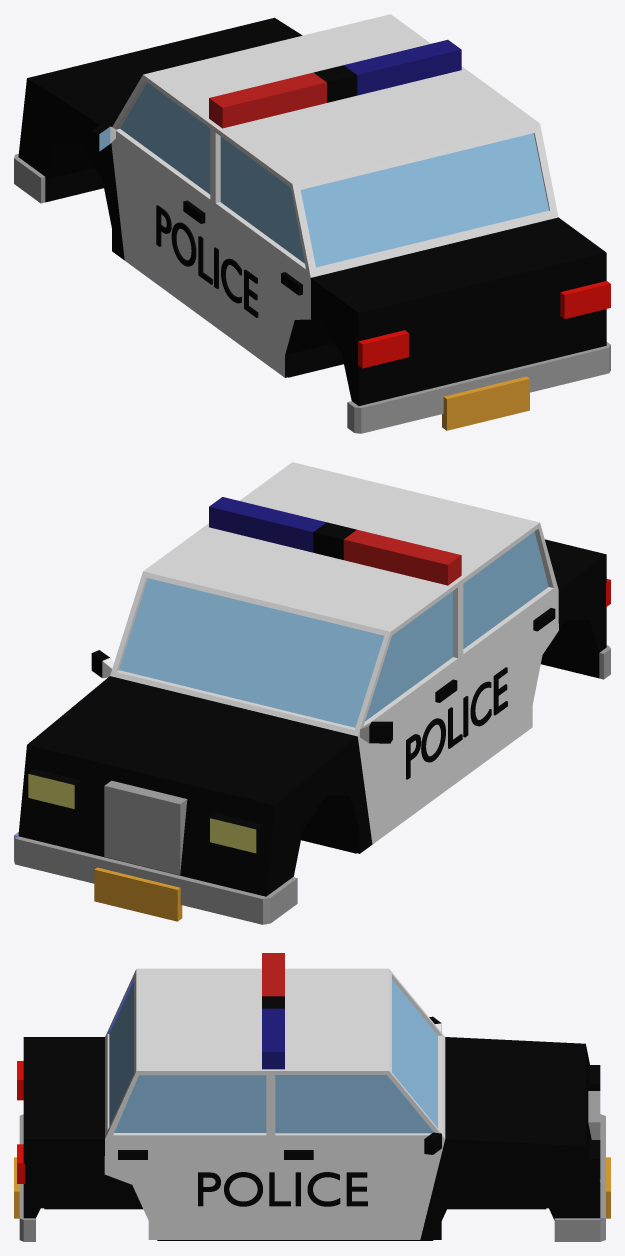
File: policecar.glb
3 renders of one model, top to bottom at view 1: azimuth 30°, elevation 25°; view 2: azimuth 150°, elevation 25°; view 3: azimuth 270°, elevation 25°, orthographic. The views are drawn at different scales.
Visible parts, largest first — view 1: Car.003; view 2: Car.003; view 3: Car.003.
Boxes of the visible parts, x1,y1,x2,y2 form: Car.003: [14, 14, 610, 433]; Car.003: [14, 462, 610, 924]; Car.003: [14, 953, 610, 1241].
Bounding box in the file's own units: 2.2 × 1.65 × 4.48.
